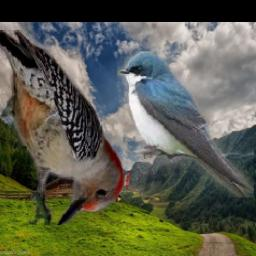Swallow: (118, 51, 255, 197)
Woodpecker: (0, 31, 125, 226)
